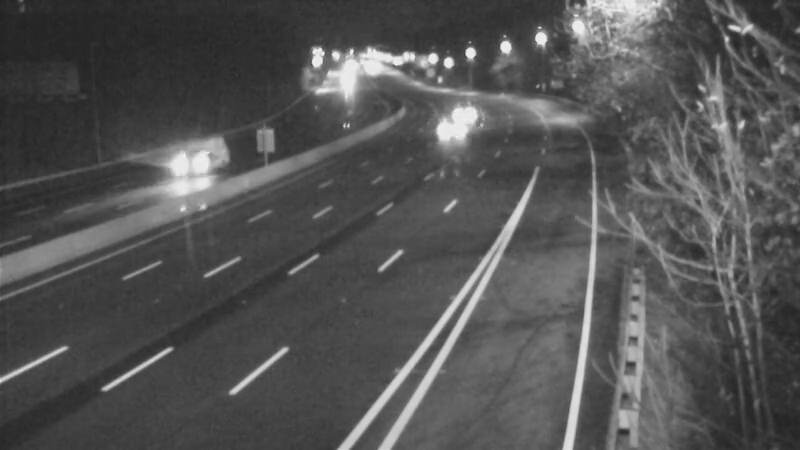vehicle: (151, 127, 231, 207), (444, 92, 494, 142), (430, 101, 480, 151)
